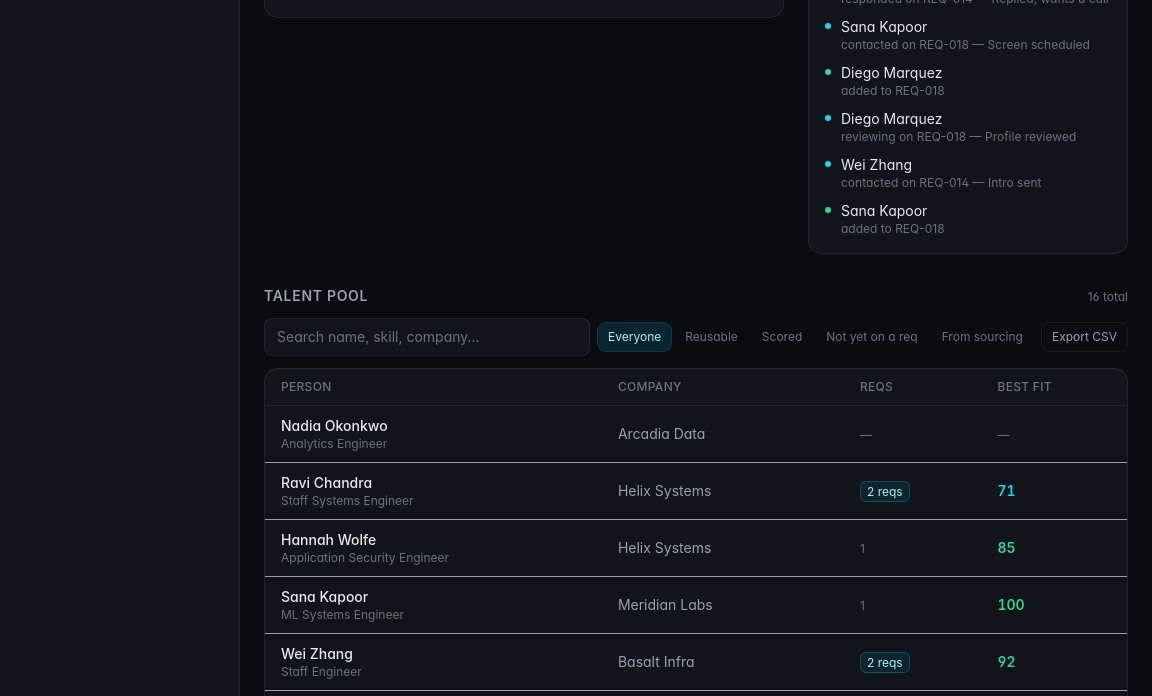
Test case: 5. talent pool › searches the pool
The width and height of the screenshot is (1152, 696).
(page scrolled)
In the field named "search the talent pool": (427, 336) [264,318,590,356], type "zzzzz"
(page scrolled)
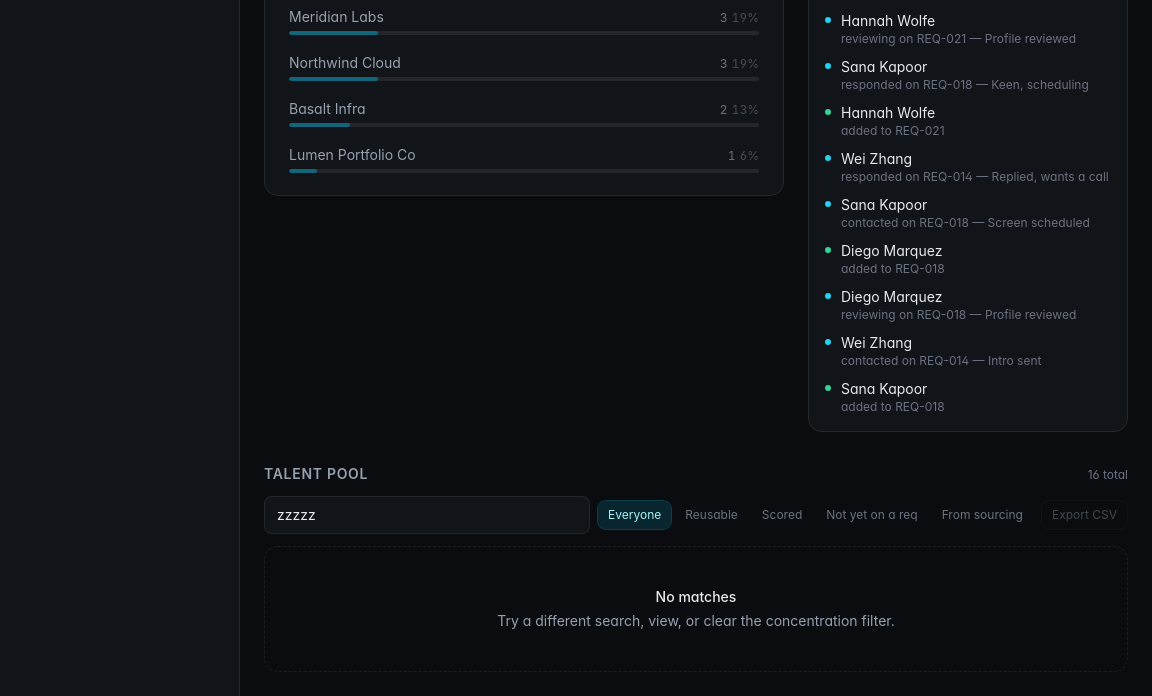
Result: the text "No matches" is shown at [656,588,736,604]
